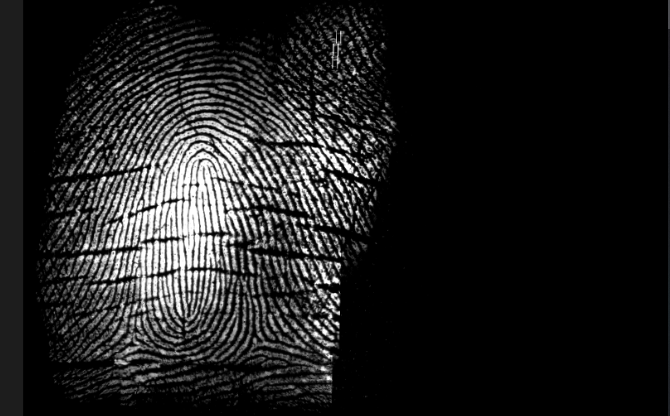deltas: (105, 303, 160, 356), (231, 315, 280, 358)
nucleo: (171, 160, 224, 223)
